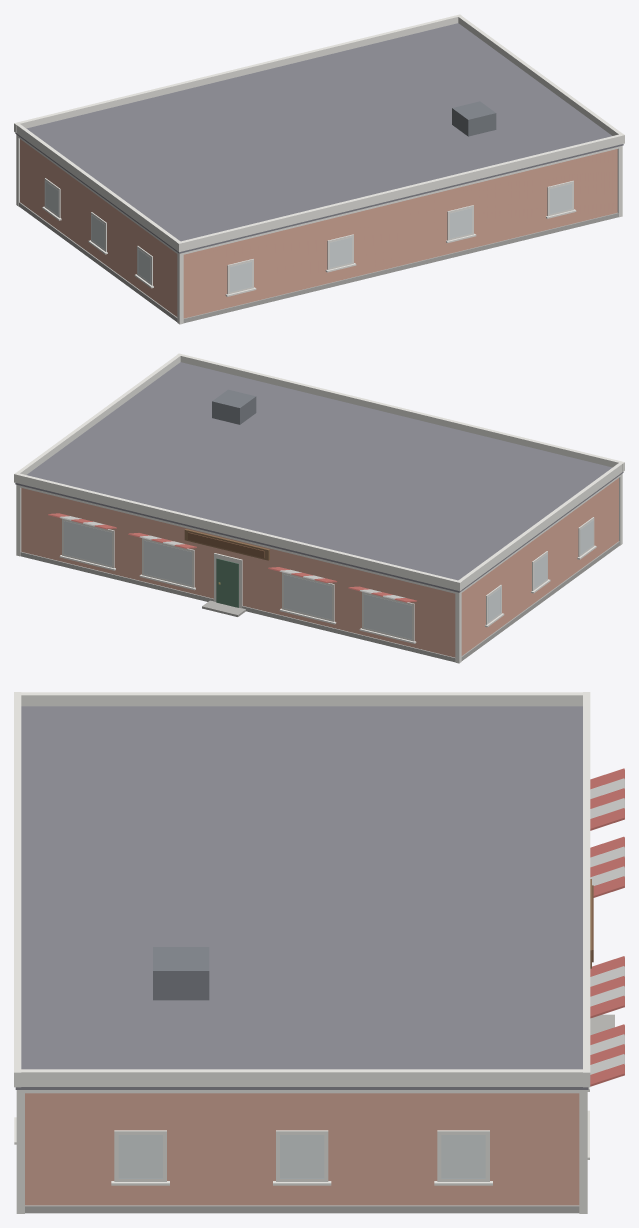
File: cafe_b.glb
The picture shows the model from 3 angles, top to bottom: view 1: azimuth 30°, elevation 25°; view 2: azimuth 150°, elevation 25°; view 3: azimuth 270°, elevation 25°; orthographic projection. The views are drawn at different scales.
Visible parts, largest first — view 1: roof, body; view 2: roof, body; view 3: roof, body.
Part boxes in pixels (left/top/right/bottom): roof: left=14, top=14, right=624, bottom=253; body: left=16, top=134, right=622, bottom=324; roof: left=14, top=353, right=624, bottom=592; body: left=16, top=473, right=622, bottom=663; roof: left=14, top=692, right=590, bottom=1089; body: left=14, top=768, right=624, bottom=1213.
Bounding box in the file's own units: 22.3 × 4.6 × 15.14.
